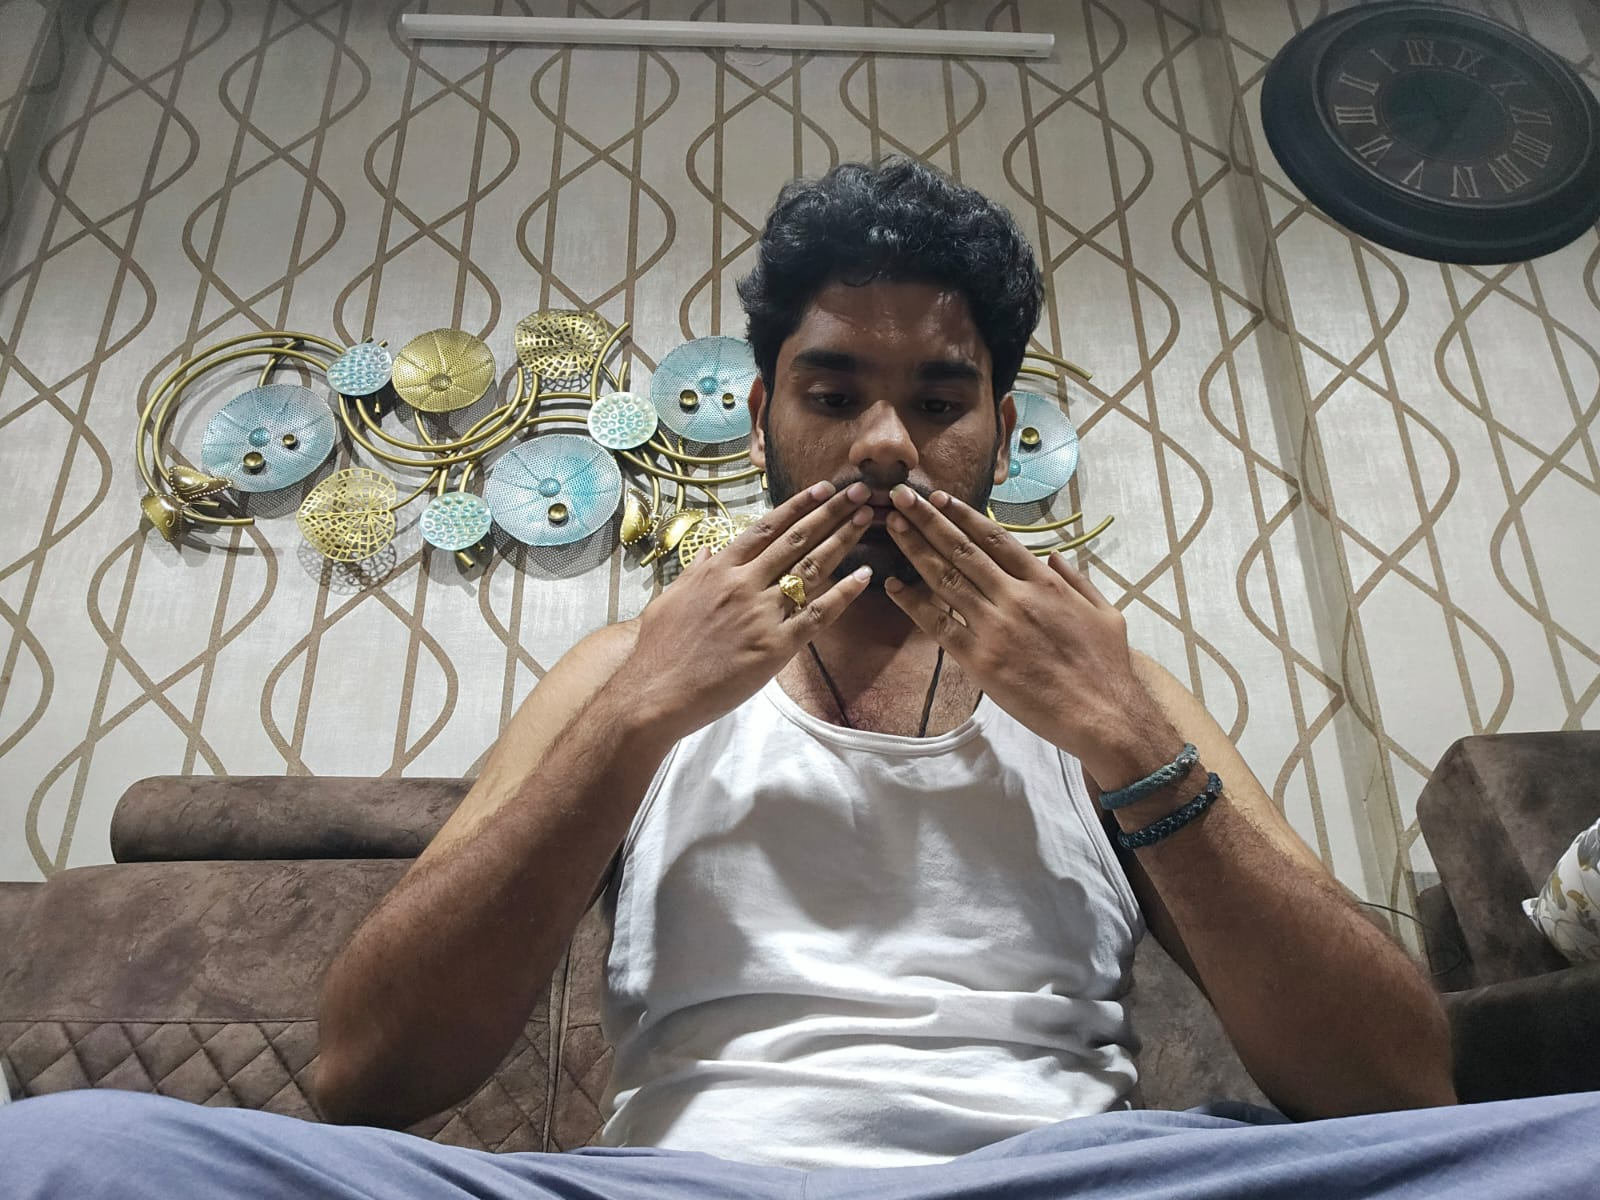thank you: (620, 476, 1128, 742)
